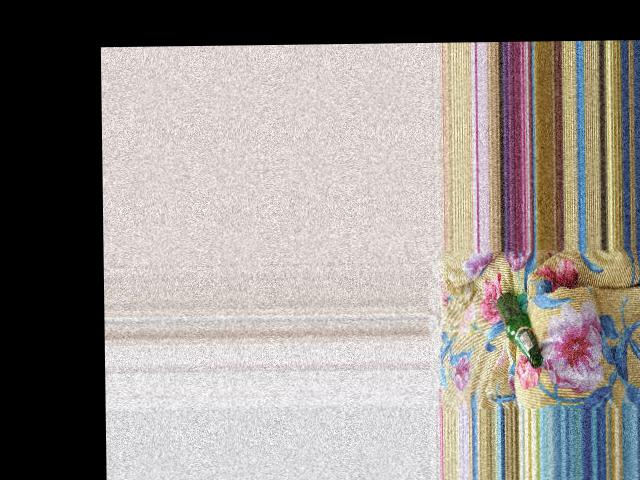beer: (497, 292, 543, 368)
